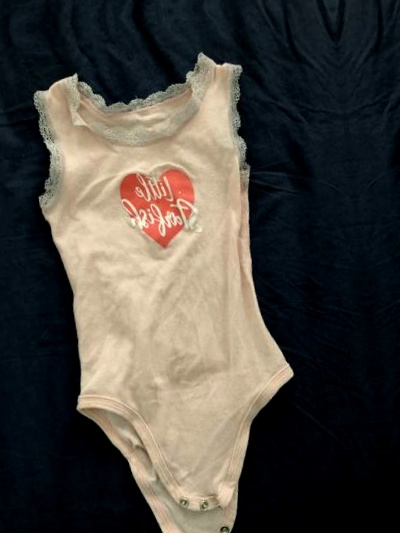Body: (0, 6, 353, 533), (374, 0, 400, 532), (0, 0, 287, 23)
